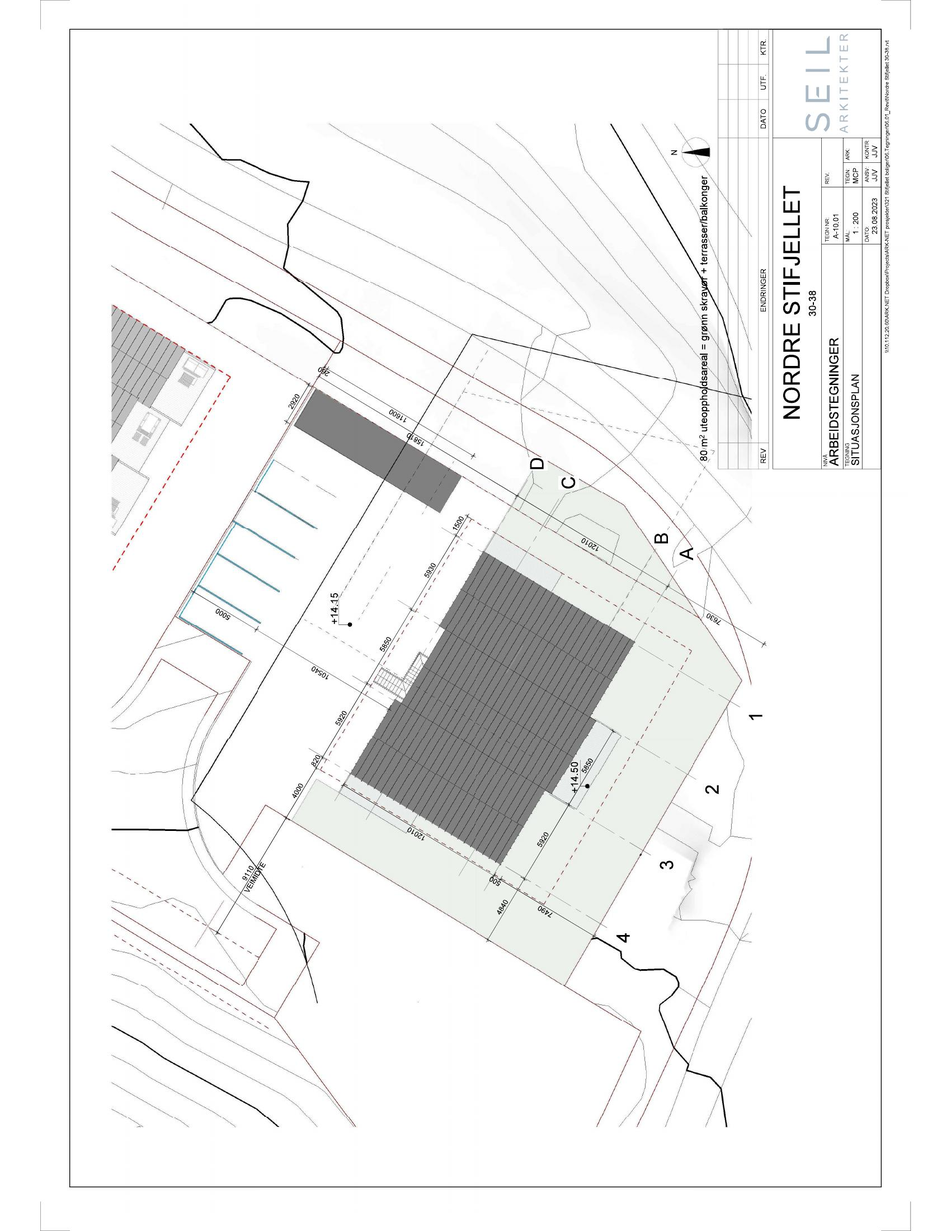situasjonskart: (71, 40, 797, 1153)
